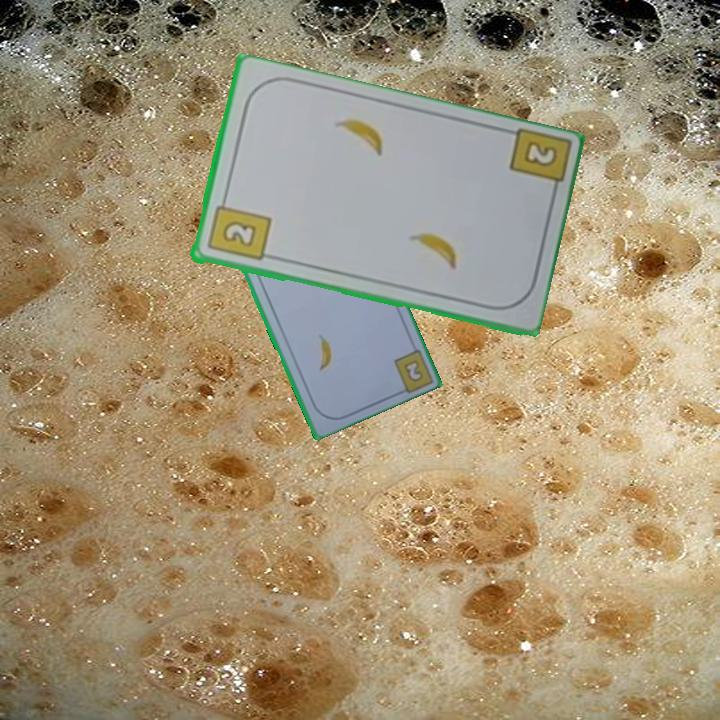2b: (203, 193, 273, 265), (519, 137, 560, 171), (402, 359, 424, 383)
